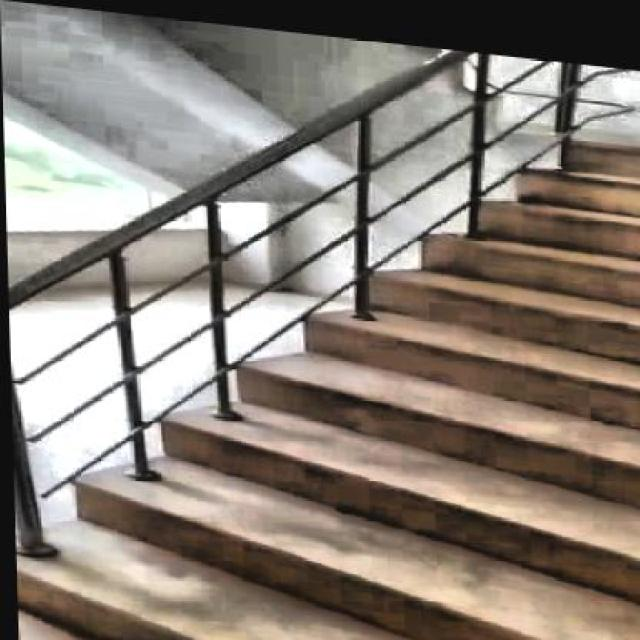stair: (24, 66, 638, 639)
